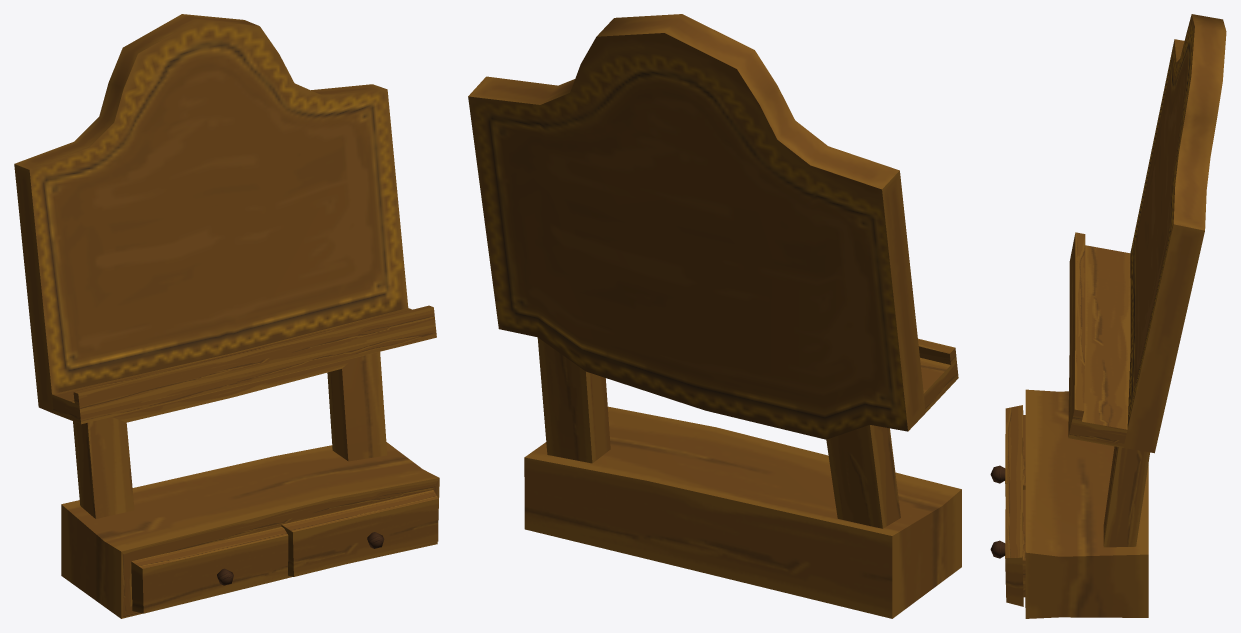
Rendered from SM_PROP_reading_stand_city.fbx.
The picture shows the model from 3 angles, left to right: view 1: azimuth 30°, elevation 25°; view 2: azimuth 150°, elevation 25°; view 3: azimuth 270°, elevation 25°; orthographic projection. The views are drawn at different scales.
Parts seen in each view (by area): view 1: SM_PROP_reading_stand_city, SM_PROP_reading_stand_drawer_01_city, SM_PROP_reading_stand_drawer_02_city; view 2: SM_PROP_reading_stand_city; view 3: SM_PROP_reading_stand_city, SM_PROP_reading_stand_drawer_02_city, SM_PROP_reading_stand_drawer_01_city.
Boxes of the visible parts, left/top/right/bottom form: SM_PROP_reading_stand_city: left=14, top=14, right=439, bottom=618; SM_PROP_reading_stand_drawer_01_city: left=131, top=527, right=288, bottom=613; SM_PROP_reading_stand_drawer_02_city: left=281, top=490, right=438, bottom=576; SM_PROP_reading_stand_city: left=468, top=14, right=961, bottom=618; SM_PROP_reading_stand_city: left=1025, top=14, right=1226, bottom=618; SM_PROP_reading_stand_drawer_02_city: left=990, top=480, right=1025, bottom=606; SM_PROP_reading_stand_drawer_01_city: left=990, top=405, right=1025, bottom=496.
Size of the model in its own units: 60.8 by 81.45 by 33.92.
